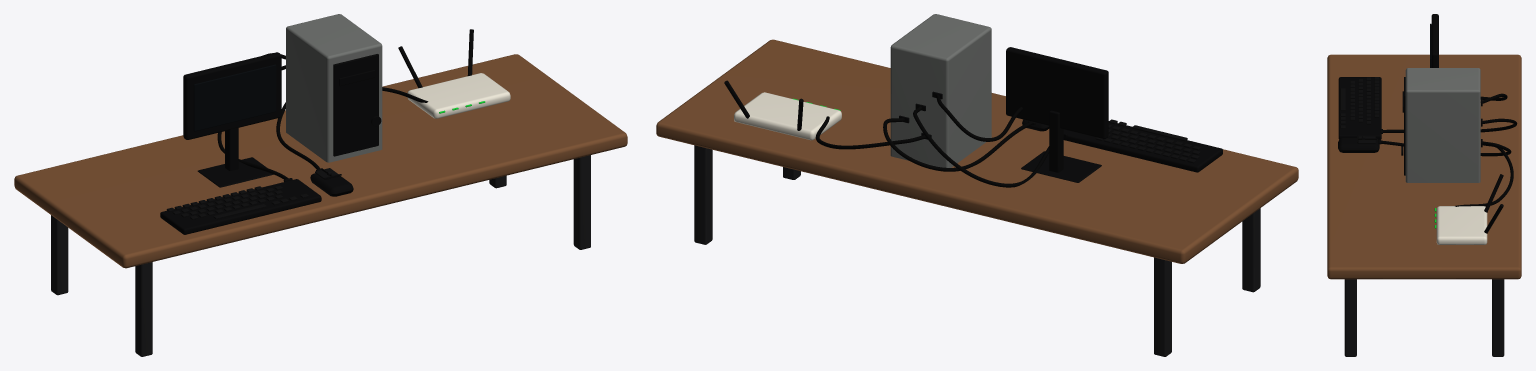
File: Office_Desk_Setup.obj
The picture shows the model from 3 angles, left to right: view 1: azimuth 30°, elevation 25°; view 2: azimuth 150°, elevation 25°; view 3: azimuth 270°, elevation 25°; orthographic projection. The views are drawn at different scales.
Parts seen in each view (by area): view 1: SM_Office_Deskplatte, SM_Office_PC_Aelterer_Tower, SM_Office_Monitor_Glass, SM_Office_PC_Front_Dark, SM_Office_Keyboard_Housing, SM_Office_Wireless_Router, SM_Office_Monitor_Frame, SM_Office_Deskbein, SM_Office_Deskbein.002, SM_Office_Deskbein.001, SM_Office_Monitor_Standfuss, SM_Office_Mouse (+1 smaller); view 2: SM_Office_Deskplatte, SM_Office_PC_Aelterer_Tower, SM_Office_Monitor_Frame, SM_Office_Wireless_Router, SM_Office_Keyboard_Housing, SM_Office_Deskbein.003, SM_Office_Deskbein.001, SM_Office_Deskbein, SM_Office_Monitor_Standfuss, SM_Office_Cables_Mouse_Zum_PC, SM_Office_Monitor_Stuetze, SM_Office_Cables_Keyboard_Zum_PC (+2 smaller); view 3: SM_Office_Deskplatte, SM_Office_PC_Aelterer_Tower, SM_Office_Wireless_Router, SM_Office_Keyboard_Housing, SM_Office_Deskbein.002, SM_Office_Deskbein.003, SM_Office_Mouse, SM_Office_Monitor_Frame, SM_Office_Cables_Router_Zum_PC, SM_Office_Cables_Keyboard_Zum_PC, SM_Office_Cables_Mouse_Zum_PC, SM_Office_PC_Front_Dark (+1 smaller).
Part boxes in pixels (<box>): SM_Office_Deskplatte: <box>14,54,627,268</box>; SM_Office_PC_Aelterer_Tower: <box>286,14,382,162</box>; SM_Office_Monitor_Glass: <box>193,64,276,131</box>; SM_Office_PC_Front_Dark: <box>333,54,378,156</box>; SM_Office_Keyboard_Housing: <box>160,179,321,234</box>; SM_Office_Wireless_Router: <box>407,73,510,118</box>; SM_Office_Monitor_Frame: <box>183,52,281,139</box>; SM_Office_Deskbein: <box>135,262,152,356</box>; SM_Office_Deskbein.002: <box>573,155,590,249</box>; SM_Office_Deskbein.001: <box>51,215,68,295</box>; SM_Office_Monitor_Standfuss: <box>197,157,273,187</box>; SM_Office_Mouse: <box>310,172,353,196</box>; SM_Office_Deskplatte: <box>656,39,1298,263</box>; SM_Office_PC_Aelterer_Tower: <box>890,14,991,167</box>; SM_Office_Monitor_Frame: <box>1006,47,1108,138</box>; SM_Office_Wireless_Router: <box>734,92,841,140</box>; SM_Office_Keyboard_Housing: <box>1063,121,1222,172</box>; SM_Office_Deskbein.003: <box>694,145,712,244</box>; SM_Office_Deskbein.001: <box>1154,257,1171,356</box>; SM_Office_Deskbein: <box>1242,208,1260,292</box>; SM_Office_Monitor_Standfuss: <box>1021,151,1101,182</box>; SM_Office_Cables_Mouse_Zum_PC: <box>883,118,1032,171</box>; SM_Office_Monitor_Stuetze: <box>1049,110,1063,172</box>; SM_Office_Cables_Keyboard_Zum_PC: <box>913,106,1063,187</box>; SM_Office_Deskplatte: <box>1327,54,1521,279</box>; SM_Office_PC_Aelterer_Tower: <box>1405,68,1480,182</box>; SM_Office_Wireless_Router: <box>1436,206,1487,244</box>; SM_Office_Keyboard_Housing: <box>1338,77,1381,139</box>; SM_Office_Deskbein.002: <box>1344,279,1356,356</box>; SM_Office_Deskbein.003: <box>1492,279,1504,356</box>; SM_Office_Mouse: <box>1338,138,1379,152</box>; SM_Office_Monitor_Frame: <box>1431,14,1438,67</box>; SM_Office_Cables_Router_Zum_PC: <box>1455,144,1513,206</box>; SM_Office_Cables_Keyboard_Zum_PC: <box>1382,118,1517,132</box>; SM_Office_Cables_Mouse_Zum_PC: <box>1380,140,1511,156</box>; SM_Office_PC_Front_Dark: <box>1404,77,1405,175</box>.
Size of the model in its own units: 3.8 by 1.59 by 1.45.
